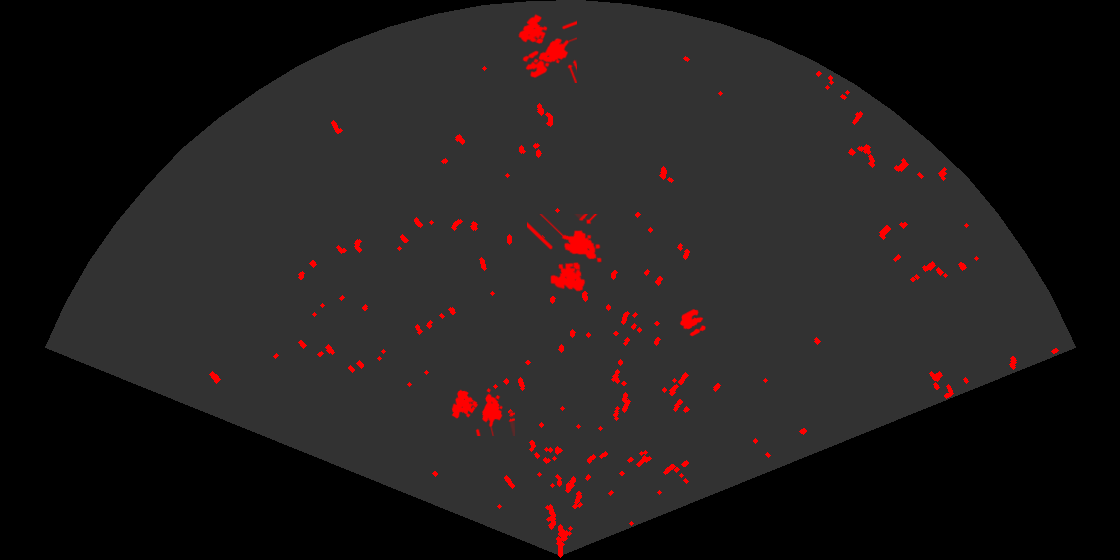ball: (521, 49, 550, 80), (678, 307, 707, 338)
cage: (527, 214, 603, 293), (517, 12, 577, 83), (450, 386, 515, 436)
